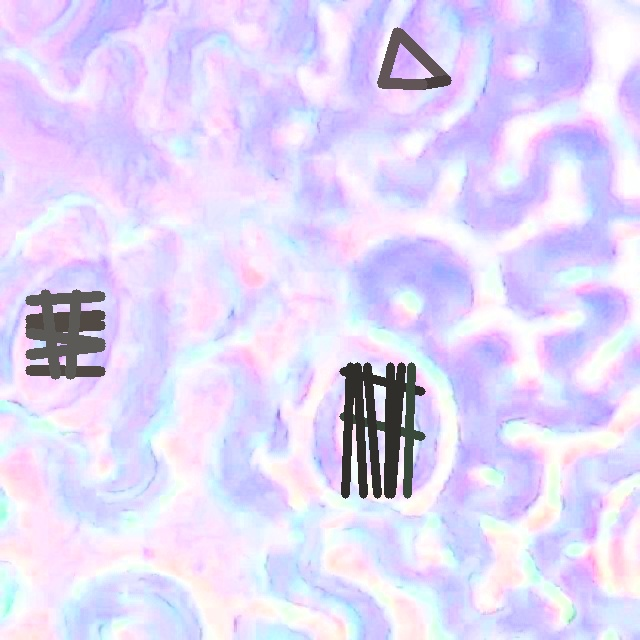close: (339, 362, 425, 498)
open: (25, 290, 105, 379), (378, 28, 450, 88)
